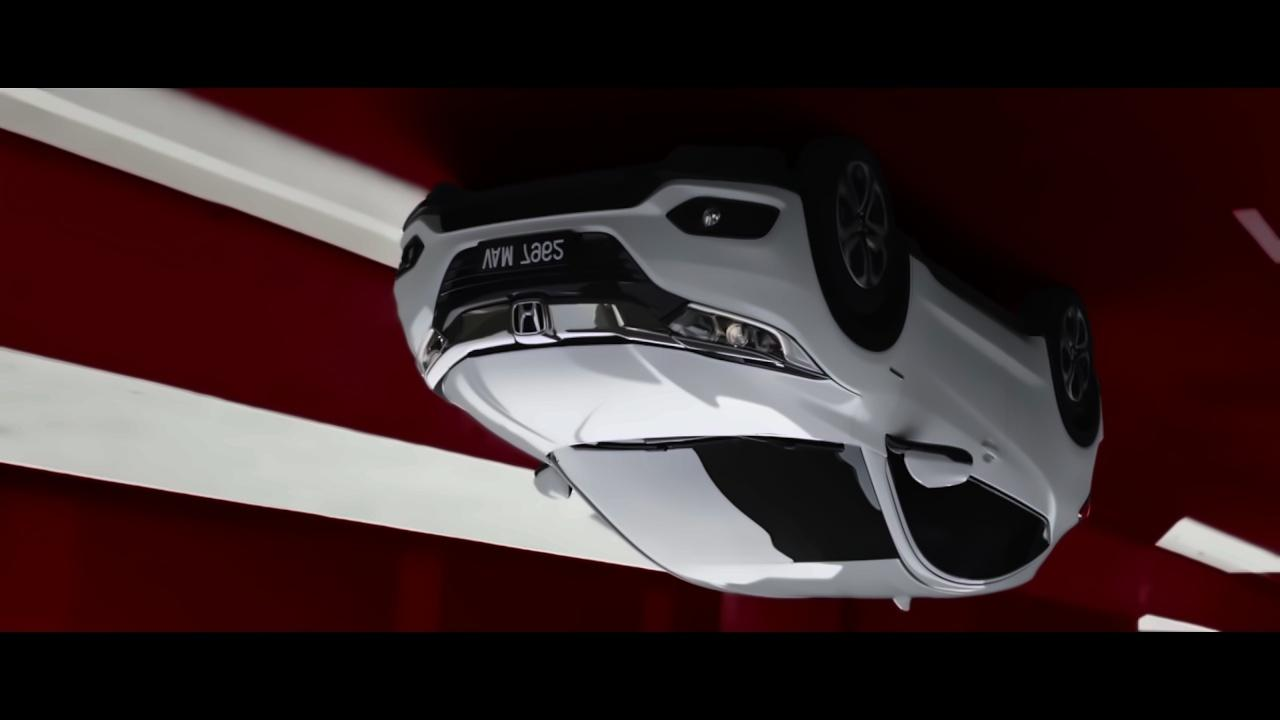Car hood: (435, 340, 878, 458)
Driver-s door - -F-R-: (875, 216, 994, 601)
Fender - -F-R-: (792, 188, 932, 468)
Fender - -R-R-: (1029, 348, 1114, 550)
Front bumper: (379, 168, 835, 347)
Headlight - -L-: (413, 323, 462, 393)
Headlight - -R-: (655, 298, 834, 381)
Passenger-s door - -R-R-: (956, 276, 1063, 625)
Side bumper - -R-: (887, 230, 1065, 398)
Side mirror - -R-: (881, 431, 978, 496)
